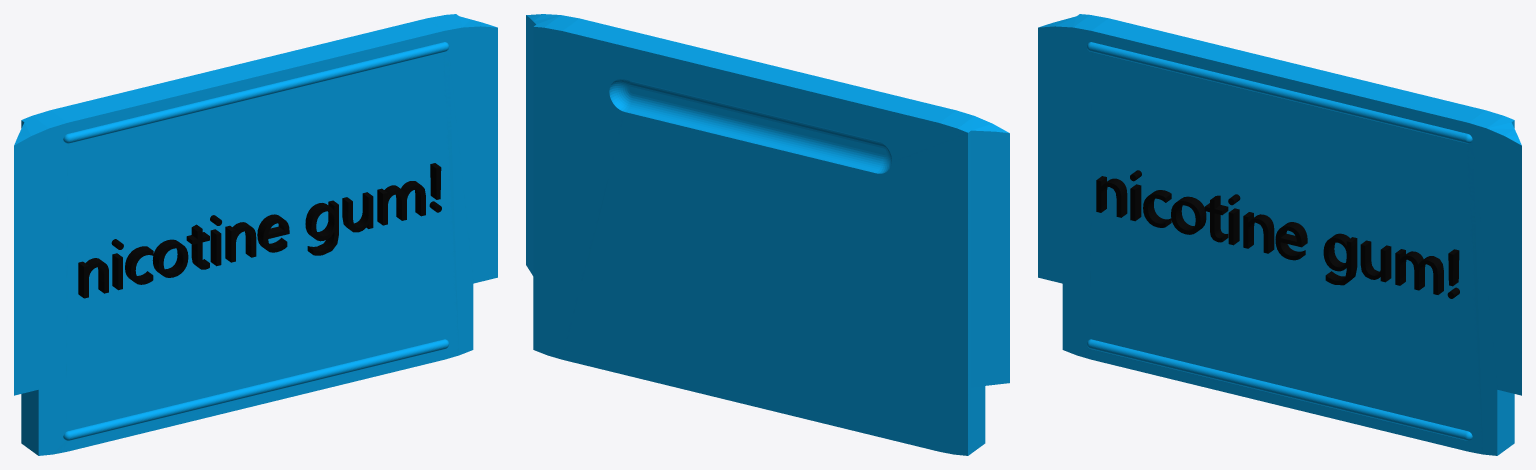
The model's file is gum.fbx.
3 renders of one model, left to right at view 1: azimuth 30°, elevation 25°; view 2: azimuth 150°, elevation 25°; view 3: azimuth 330°, elevation 25°, orthographic.
Visible parts, largest first — view 1: node_id29, node_id69; view 2: node_id29; view 3: node_id29, node_id69.
Part boxes in pixels (x1,y1,x2,y2): node_id29: (14,14,497,455); node_id69: (78,163,441,298); node_id29: (526,14,1009,455); node_id29: (1038,14,1521,455); node_id69: (1096,170,1459,298).
Size of the model in its own units: 0.512 by 0.3325 by 0.0424.
Materials: 2 (1 with a texture image).
